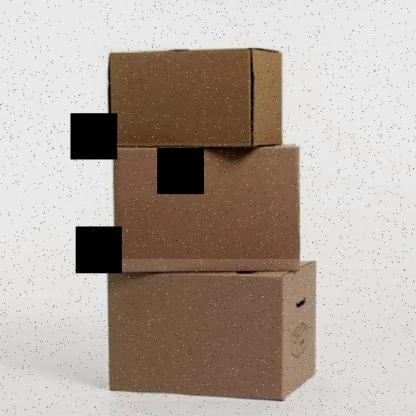box: (106, 259, 318, 401), (110, 143, 302, 273), (106, 48, 285, 149)
